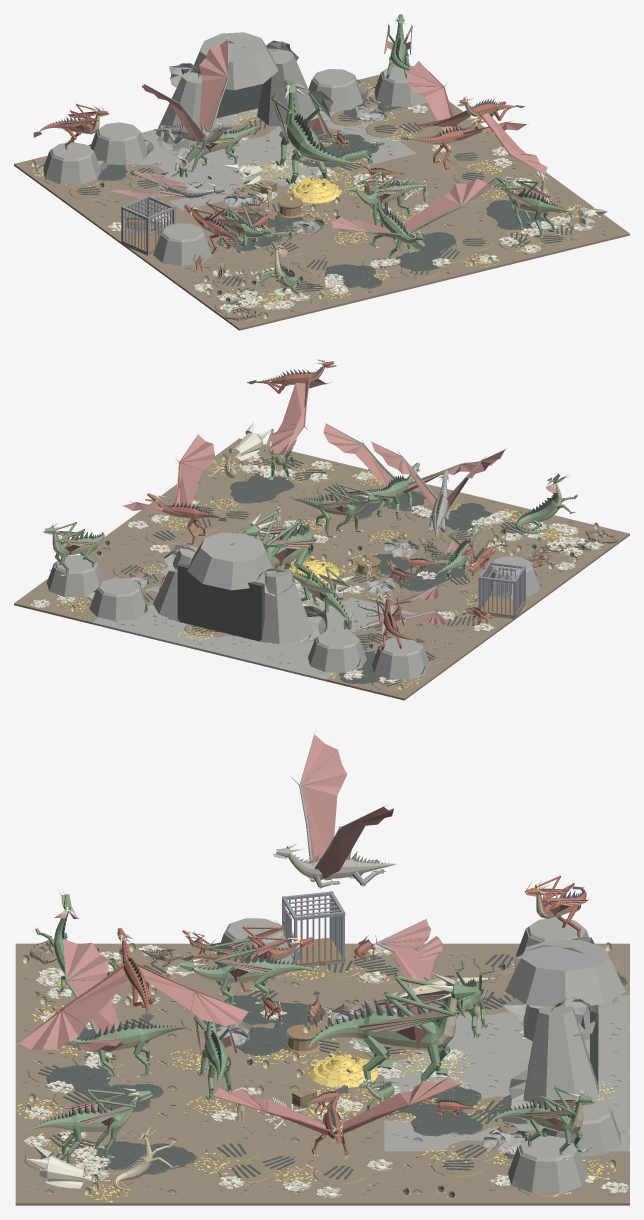
File: dragons-and-wyverns-dragon-lair-clearing-fe031da0-starter-scene__36755.glb
3 views of the same model, one above another, from view 1: azimuth 30°, elevation 25°; view 2: azimuth 150°, elevation 25°; view 3: azimuth 270°, elevation 25° (orthographic). The views are drawn at different scales.
Parts seen in each view (by area): view 1: 025-cave-mouth-arch/0, 031-elder-dragon-perched-on-hoard/0, 041-western-dragon-flying-wings-up/5, 003-lair-ground-tile/0, 028-lair-perch-rock/0, 001-lair-ground-tile/0, 038-western-dragon-wings-spread/5, 058-lair-perch-rock/0, 017-lair-ground-tile/0, 018-lair-ground-tile/0, 060-lair-perch-rock/0, 022-lair-ground-tile/0 (+49 smaller); view 2: 025-cave-mouth-arch/0, 025-cave-mouth-arch/1, 013-lair-ground-tile/0, 001-lair-ground-tile/0, 059-lair-perch-rock/0, 058-lair-perch-rock/0, 028-lair-perch-rock/0, 039-wyvern-wings-spread/5, 022-lair-ground-tile/0, 026-lair-perch-rock/0, 005-lair-ground-tile/0, 031-elder-dragon-perched-on-hoard/0 (+46 smaller); view 3: 025-cave-mouth-arch/0, 021-lair-ground-tile/0, 041-western-dragon-flying-wings-up/5, 040-wyvern-flying-wings-down/5, 031-elder-dragon-perched-on-hoard/0, 018-lair-ground-tile/0, 022-lair-ground-tile/0, 013-lair-ground-tile/0, 023-lair-ground-tile/0, 017-lair-ground-tile/0, 026-lair-perch-rock/0, 011-lair-ground-tile/0 (+62 smaller).
Part boxes in pixels (x1=…): 025-cave-mouth-arch/0: x1=155, y1=32, x2=333, y2=156; 031-elder-dragon-perched-on-hoard/0: x1=271, y1=79, x2=355, y2=184; 041-western-dragon-flying-wings-up/5: x1=142, y1=39, x2=227, y2=142; 003-lair-ground-tile/0: x1=149, y1=247, x2=270, y2=297; 028-lair-perch-rock/0: x1=38, y1=142, x2=107, y2=184; 001-lair-ground-tile/0: x1=59, y1=179, x2=181, y2=231; 038-western-dragon-wings-spread/5: x1=331, y1=178, x2=494, y2=238; 058-lair-perch-rock/0: x1=88, y1=122, x2=154, y2=164; 017-lair-ground-tile/0: x1=341, y1=153, x2=456, y2=205; 018-lair-ground-tile/0: x1=384, y1=189, x2=496, y2=234; 060-lair-perch-rock/0: x1=153, y1=223, x2=212, y2=266; 022-lair-ground-tile/0: x1=417, y1=134, x2=533, y2=183; 025-cave-mouth-arch/0: x1=153, y1=532, x2=327, y2=643; 025-cave-mouth-arch/1: x1=177, y1=563, x2=264, y2=641; 013-lair-ground-tile/0: x1=313, y1=514, x2=428, y2=555; 001-lair-ground-tile/0: x1=400, y1=613, x2=494, y2=666; 059-lair-perch-rock/0: x1=88, y1=578, x2=147, y2=620; 058-lair-perch-rock/0: x1=308, y1=630, x2=366, y2=672; 028-lair-perch-rock/0: x1=372, y1=638, x2=430, y2=679; 039-wyvern-wings-spread/5: x1=123, y1=434, x2=215, y2=516; 022-lair-ground-tile/0: x1=104, y1=504, x2=226, y2=553; 026-lair-perch-rock/0: x1=46, y1=555, x2=104, y2=597; 005-lair-ground-tile/0: x1=248, y1=636, x2=335, y2=681; 031-elder-dragon-perched-on-hoard/0: x1=237, y1=510, x2=317, y2=585; 025-cave-mouth-arch/0: x1=503, y1=937, x2=625, y2=1119; 021-lair-ground-tile/0: x1=384, y1=1151, x2=506, y2=1205; 041-western-dragon-flying-wings-up/5: x1=301, y1=735, x2=393, y2=878; 040-wyvern-flying-wings-down/5: x1=18, y1=966, x2=248, y2=1049; 031-elder-dragon-perched-on-hoard/0: x1=308, y1=974, x2=477, y2=1088; 018-lair-ground-tile/0: x1=138, y1=1099, x2=261, y2=1151; 022-lair-ground-tile/0: x1=261, y1=1151, x2=384, y2=1205; 013-lair-ground-tile/0: x1=138, y1=1047, x2=261, y2=1099; 023-lair-ground-tile/0: x1=138, y1=1151, x2=261, y2=1205; 017-lair-ground-tile/0: x1=261, y1=1099, x2=384, y2=1151; 026-lair-perch-rock/0: x1=508, y1=1135, x2=587, y2=1193; 011-lair-ground-tile/0: x1=384, y1=1047, x2=506, y2=1099.
Size of the model in its own units: 30.15 by 12.11 by 30.08.
